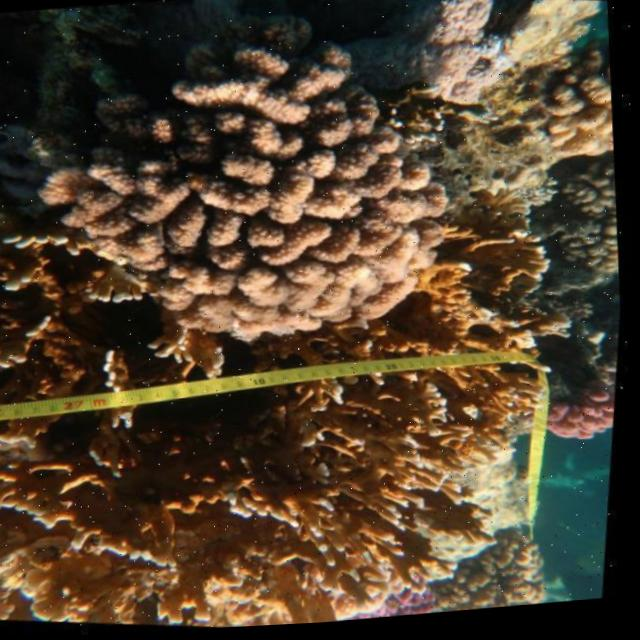Healthy Coral: (0, 349, 504, 629), (72, 16, 456, 355), (538, 44, 616, 165), (548, 394, 618, 448), (349, 591, 439, 624)
